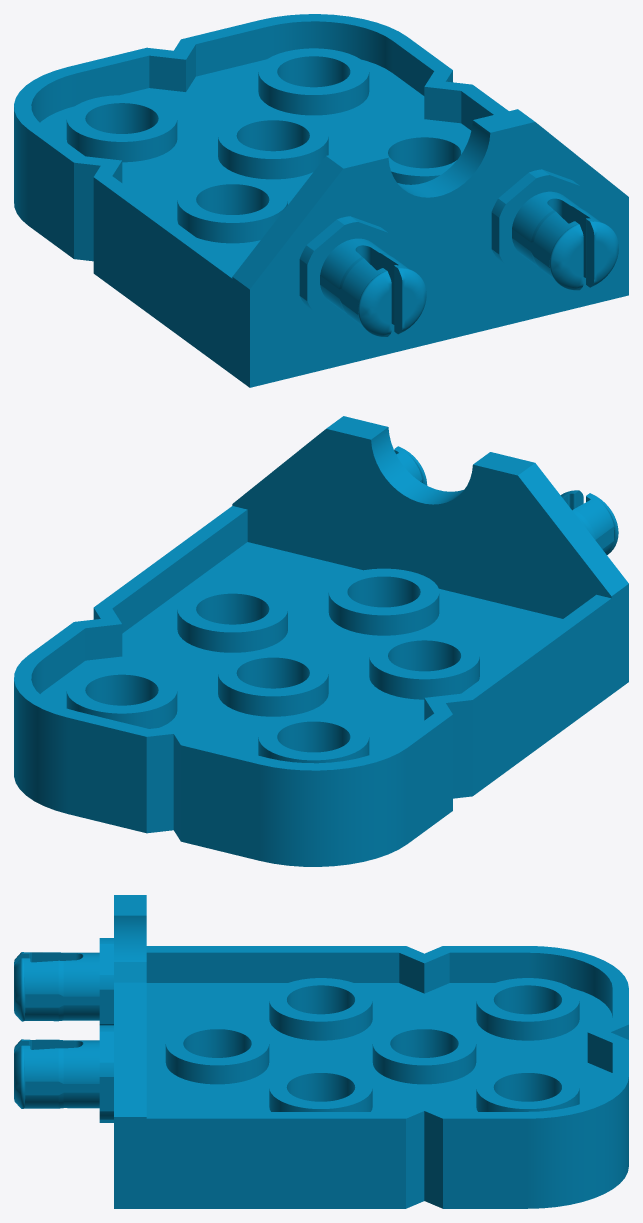
3 renders of one model, top to bottom at view 1: azimuth 30°, elevation 25°; view 2: azimuth 150°, elevation 25°; view 3: azimuth 270°, elevation 25°, orthographic. The views are drawn at different scales.
Visible parts, largest first — view 1: main_004c97; view 2: main_004c97; view 3: main_004c97.
Boxes of the visible parts, box(x1,y1,x2,y2) form: main_004c97: box(14, 14, 628, 387); main_004c97: box(14, 416, 628, 866); main_004c97: box(14, 895, 628, 1208).
Size of the model in its own units: 25.1 by 12.42 by 37.74.
